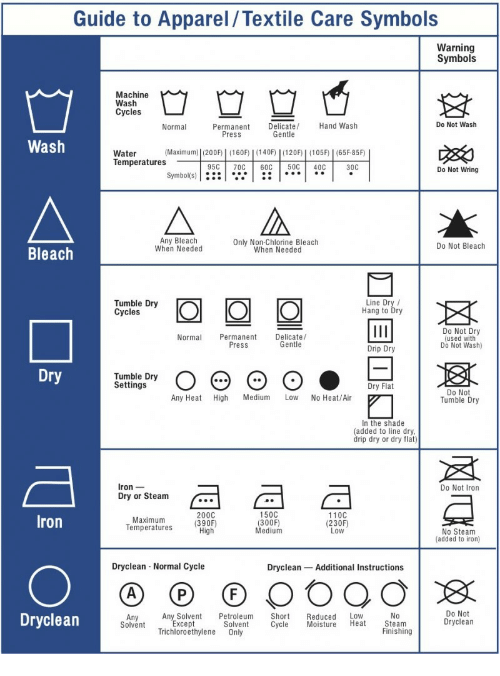do_not_bleach: (429, 203, 487, 241)
do_not_dry_clean: (432, 575, 480, 607)
do_not_iron: (437, 452, 484, 483)
do_not_wash: (433, 90, 476, 119)
